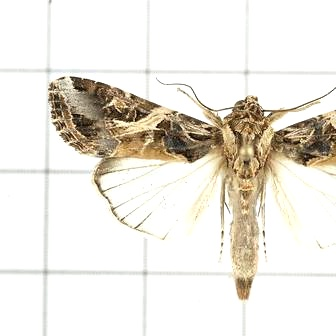Spodoptera litura: (48, 76, 335, 303)
